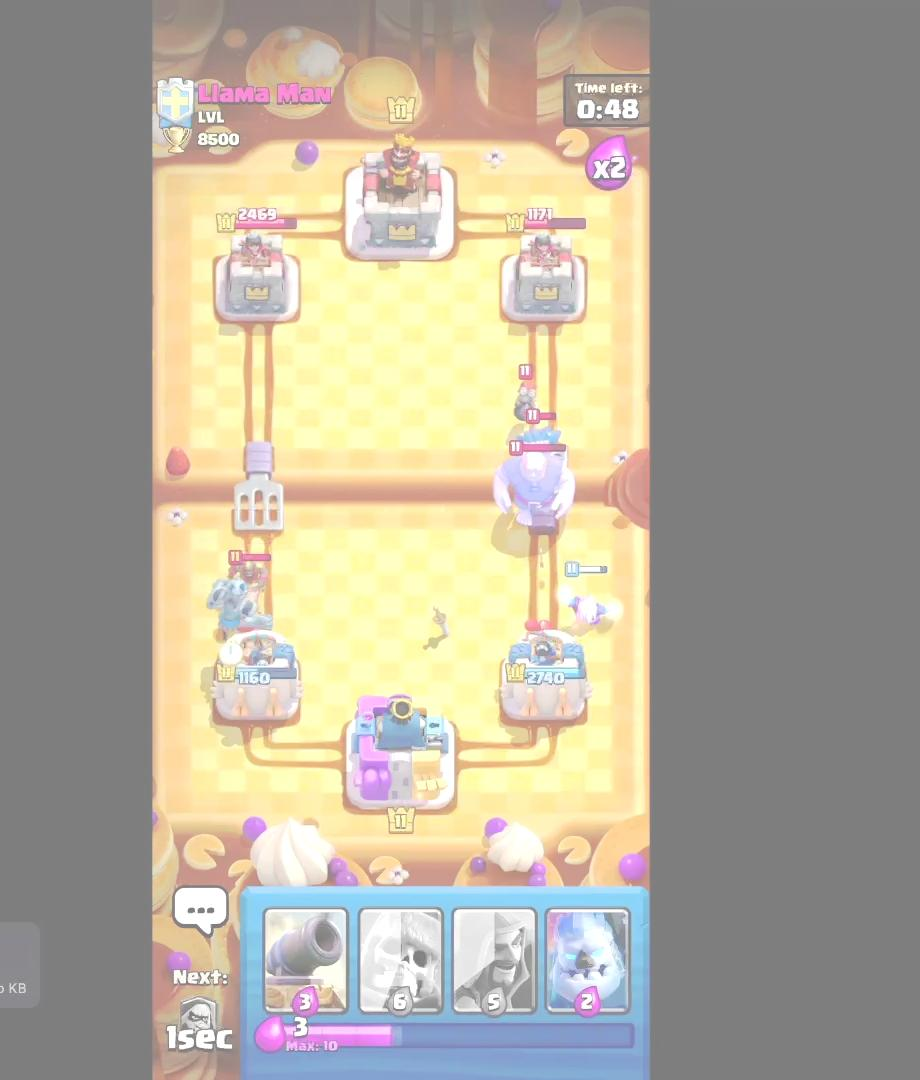Bomber: (492, 361, 557, 414)
Dart Goblin: (512, 414, 569, 461)
Giant: (495, 446, 594, 545)
Hog Rider: (210, 524, 292, 607)
